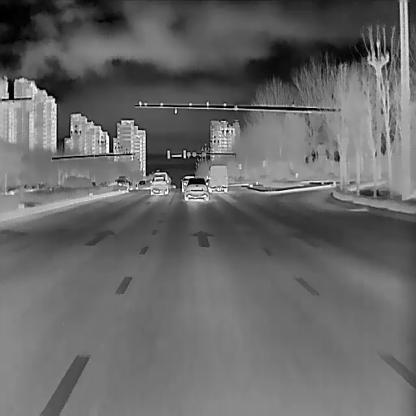car: (181, 176, 209, 201), (206, 163, 228, 192), (149, 175, 169, 195), (114, 174, 132, 190), (138, 180, 146, 190)
